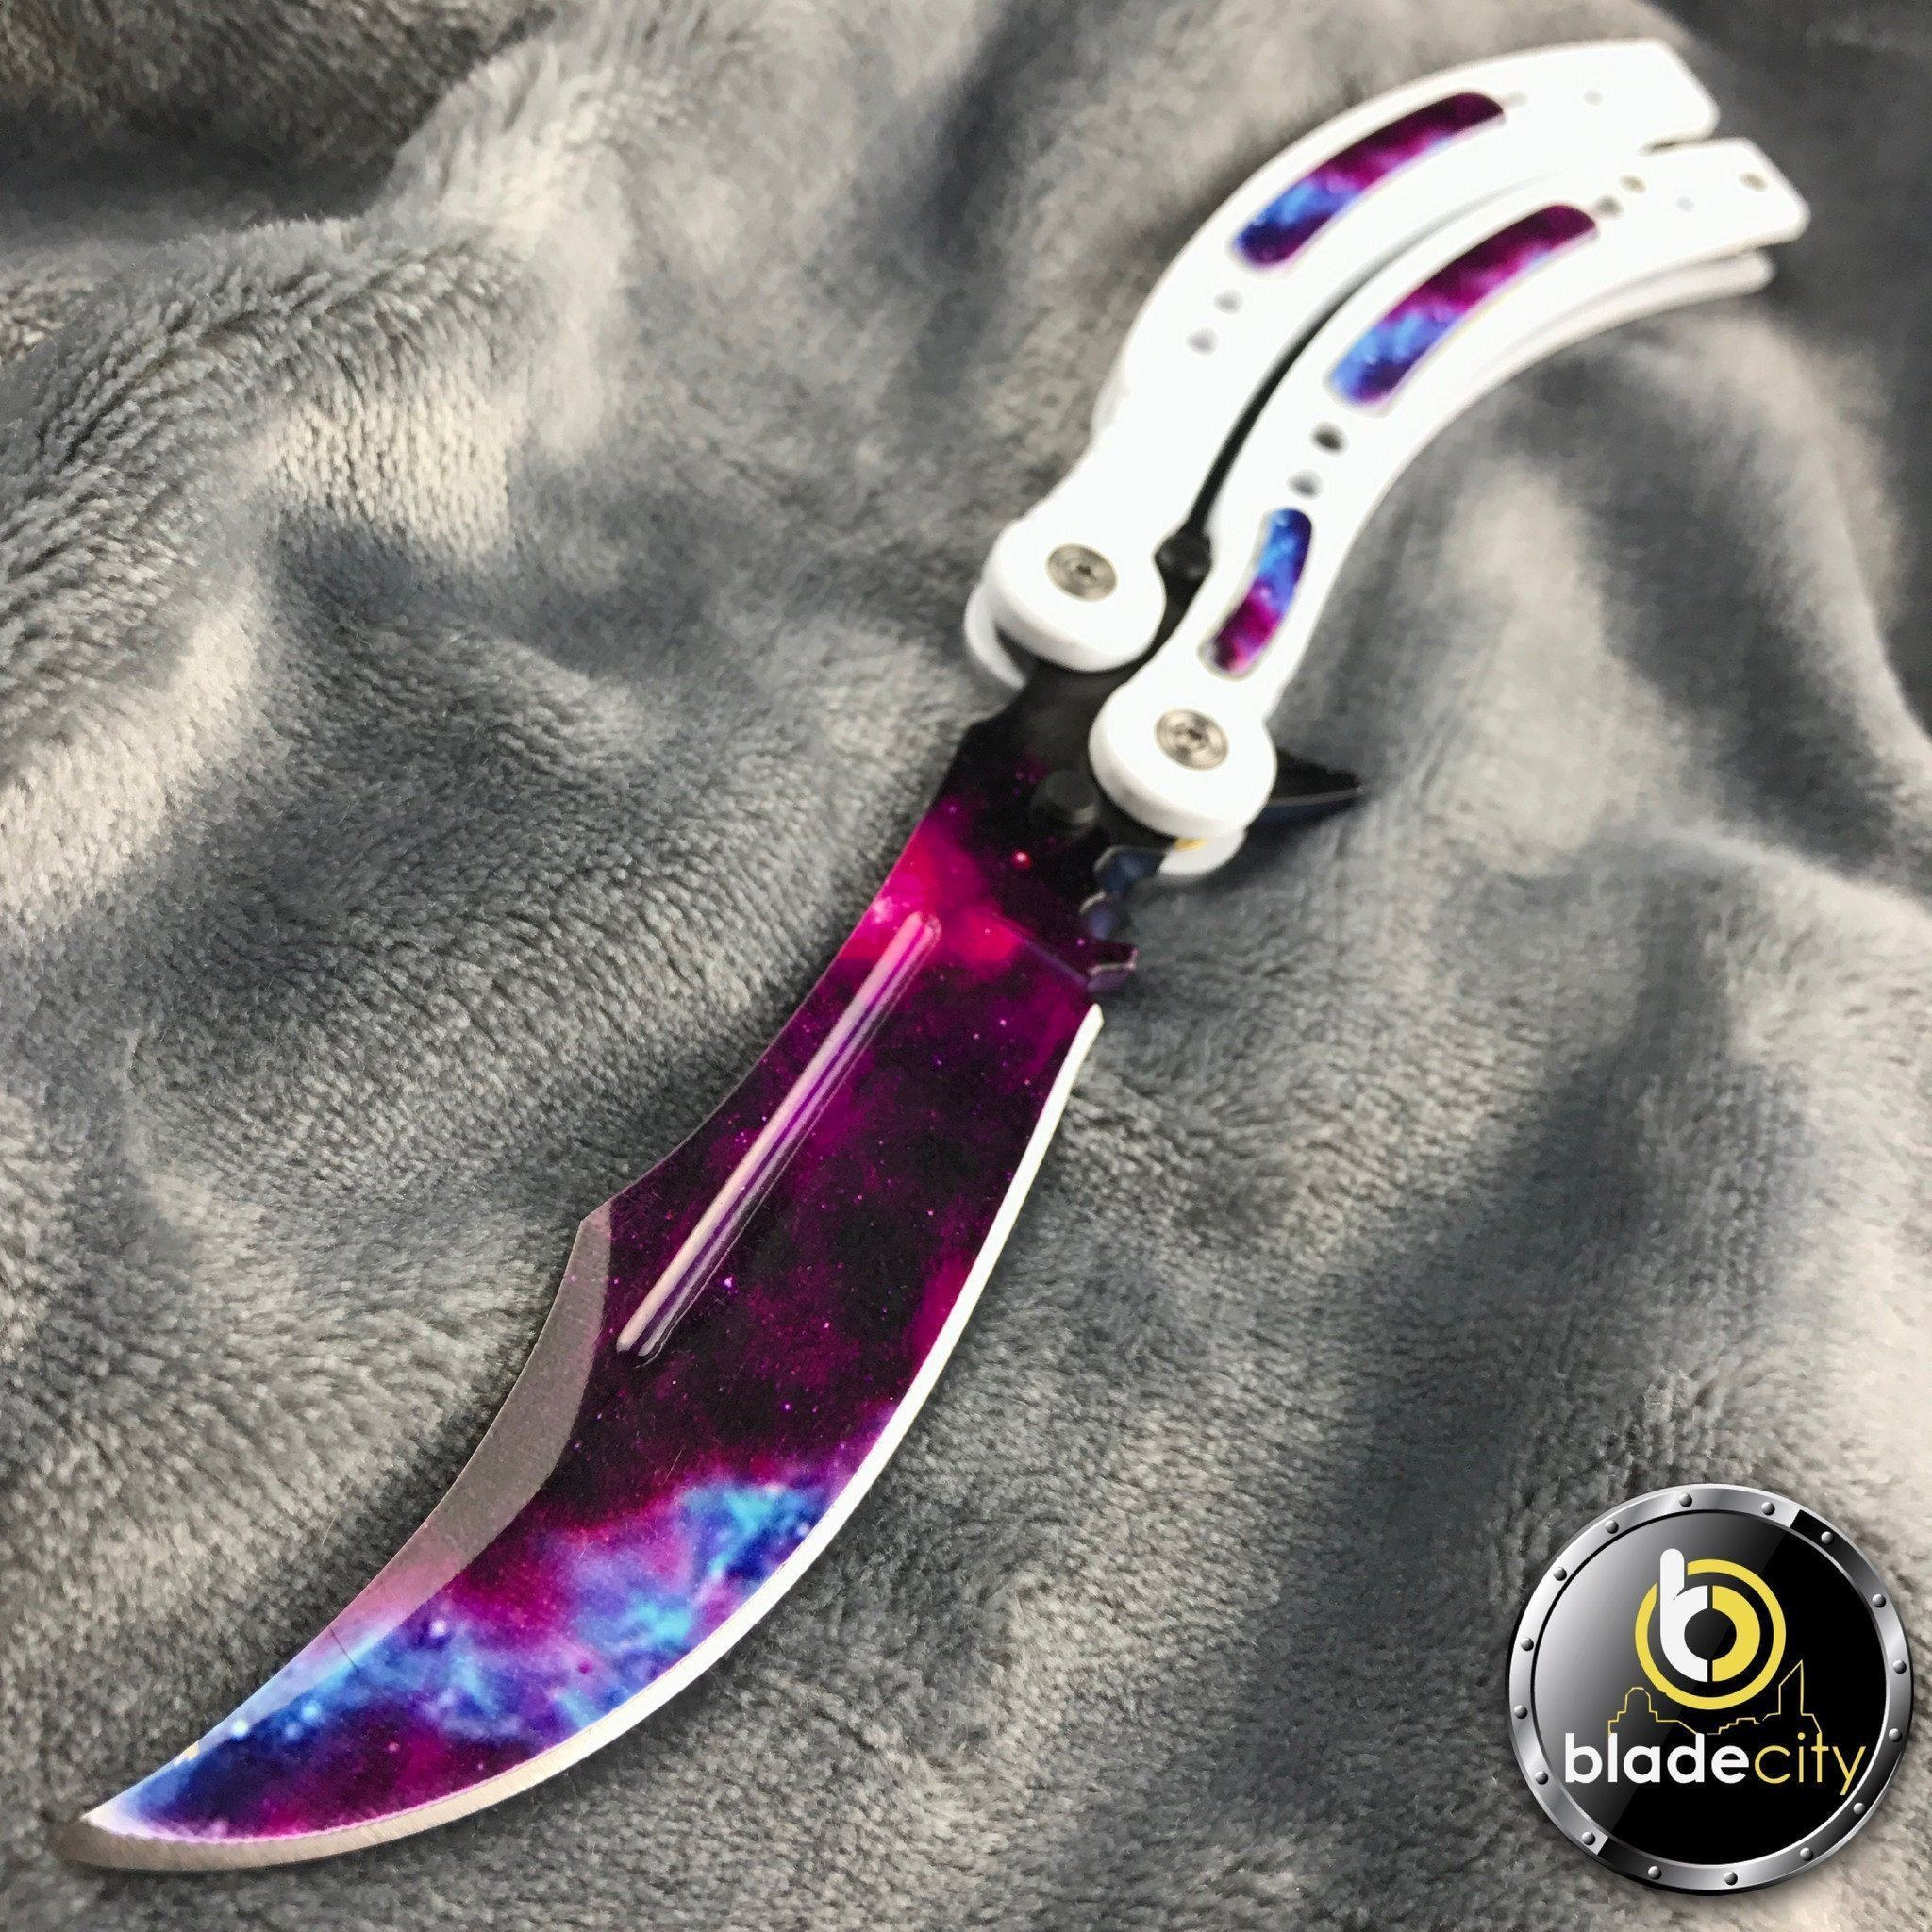knife: (48, 18, 1831, 1856)
